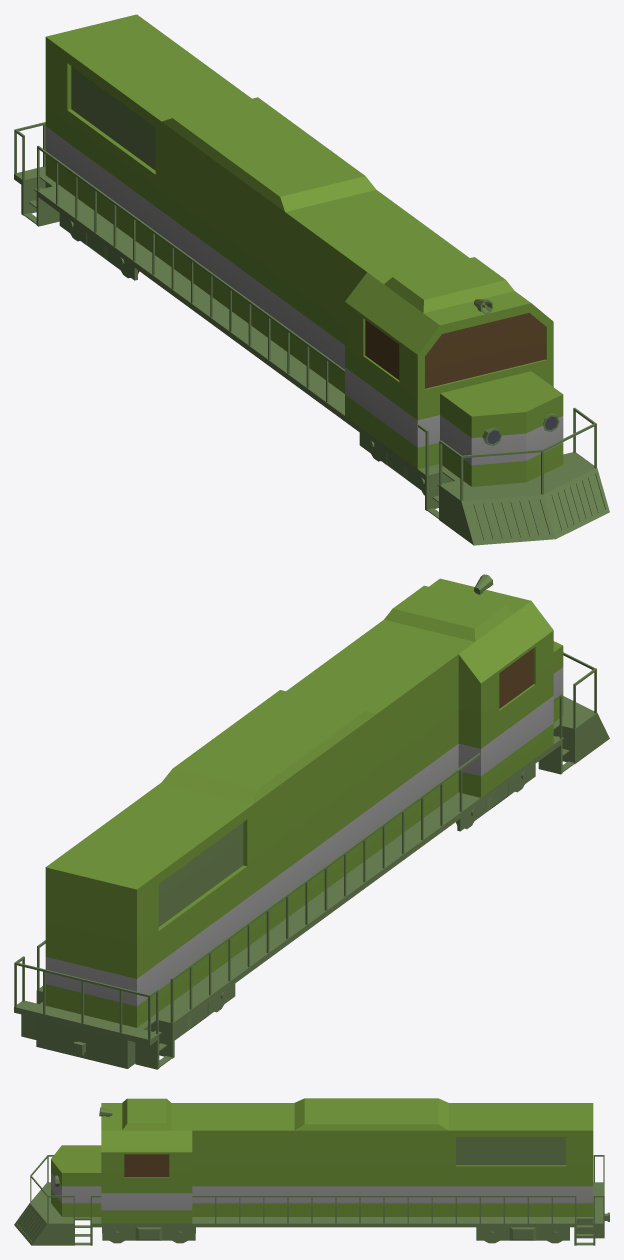
The model's file is Train_01.fbx.
3 renders of one model, top to bottom at view 1: azimuth 30°, elevation 25°; view 2: azimuth 150°, elevation 25°; view 3: azimuth 270°, elevation 25°, orthographic. The views are drawn at different scales.
Visible parts, largest first — view 1: Train_01; view 2: Train_01; view 3: Train_01.
Boxes of the visible parts, bbox=[...] form: Train_01: bbox=[14, 14, 609, 545]; Train_01: bbox=[14, 574, 609, 1069]; Train_01: bbox=[14, 1098, 609, 1245].
Bounding box in the file's own units: 3.5 × 4.78 × 21.3.
